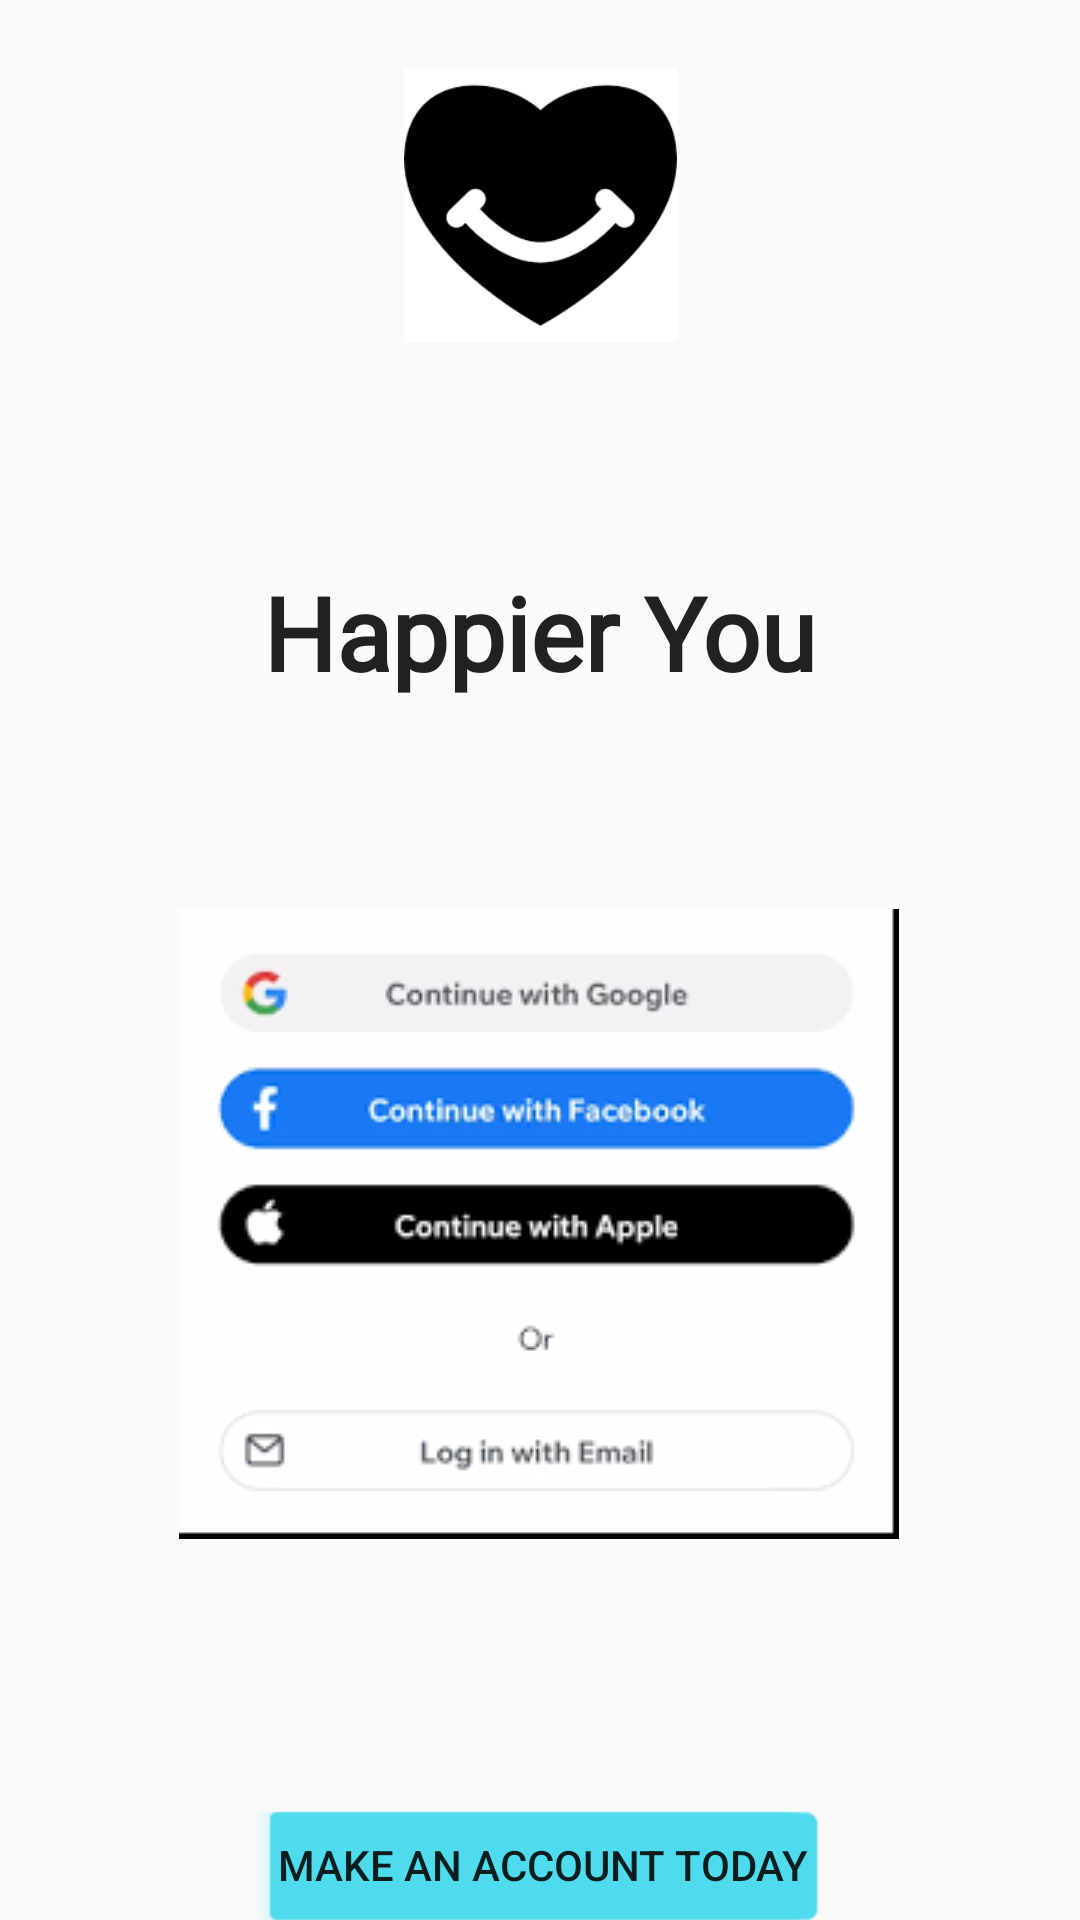

Icons on this 1080*1920 Android screen, each with its box as {"left": x1, "top": y1, "right": x2, "bottom": y2}:
smile: {"left": 404, "top": 84, "right": 677, "bottom": 326}
